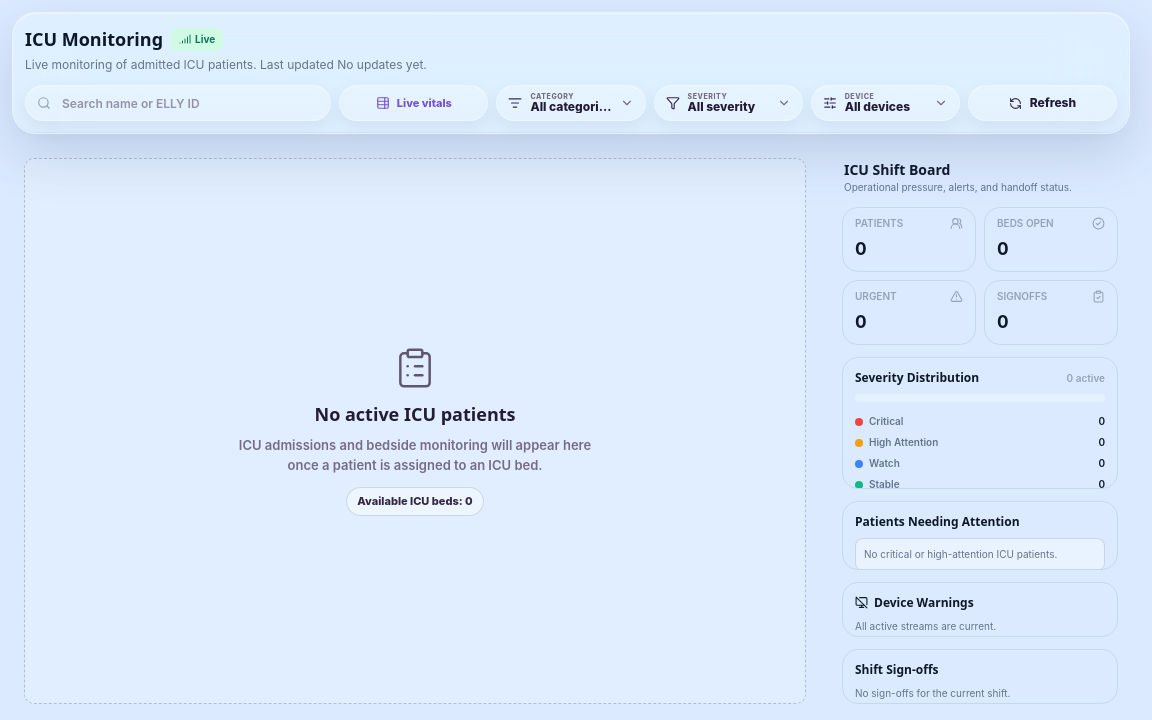
IcuMonitoring › accepts a browser pointer click without relying on pointerdown
The width and height of the screenshot is (1152, 720).
What coordinates should you click on to do the following:
click the button with aria-label "Category: All categories"
I would click on:
 (571, 103)
Its box is [496,85,646,121].
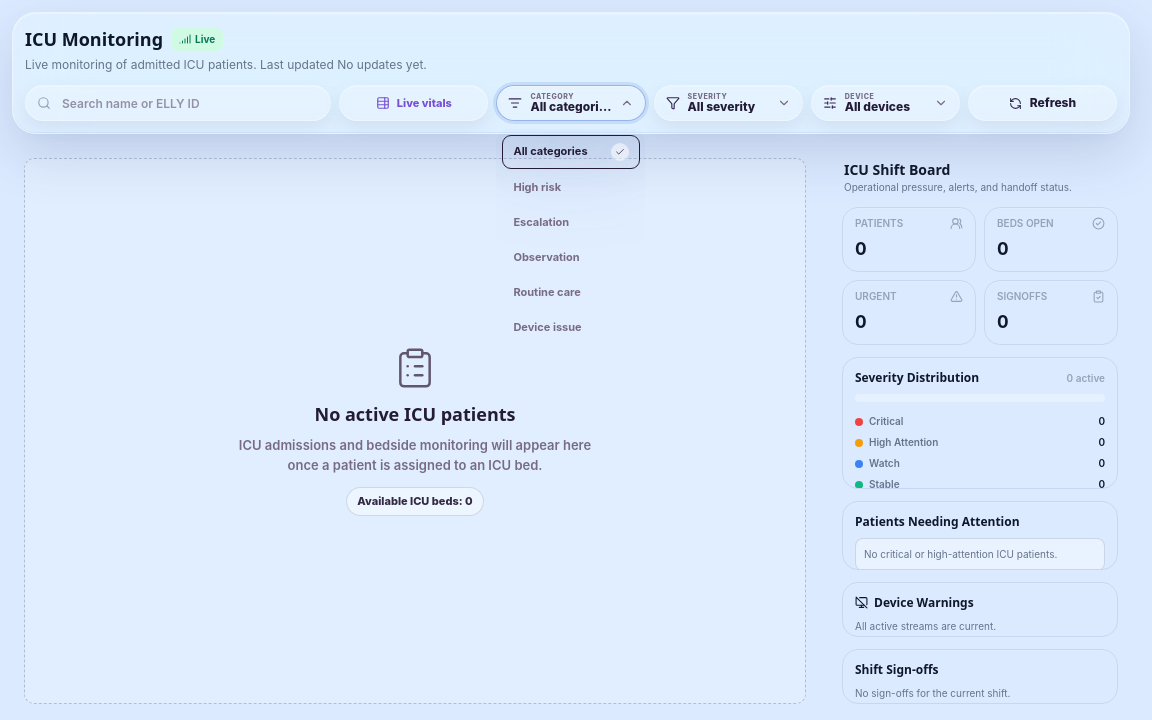
What coordinates should you click on to do the following:
click the option "High risk"
I would click on:
 (571, 188)
Its box is [502,172,640,204].
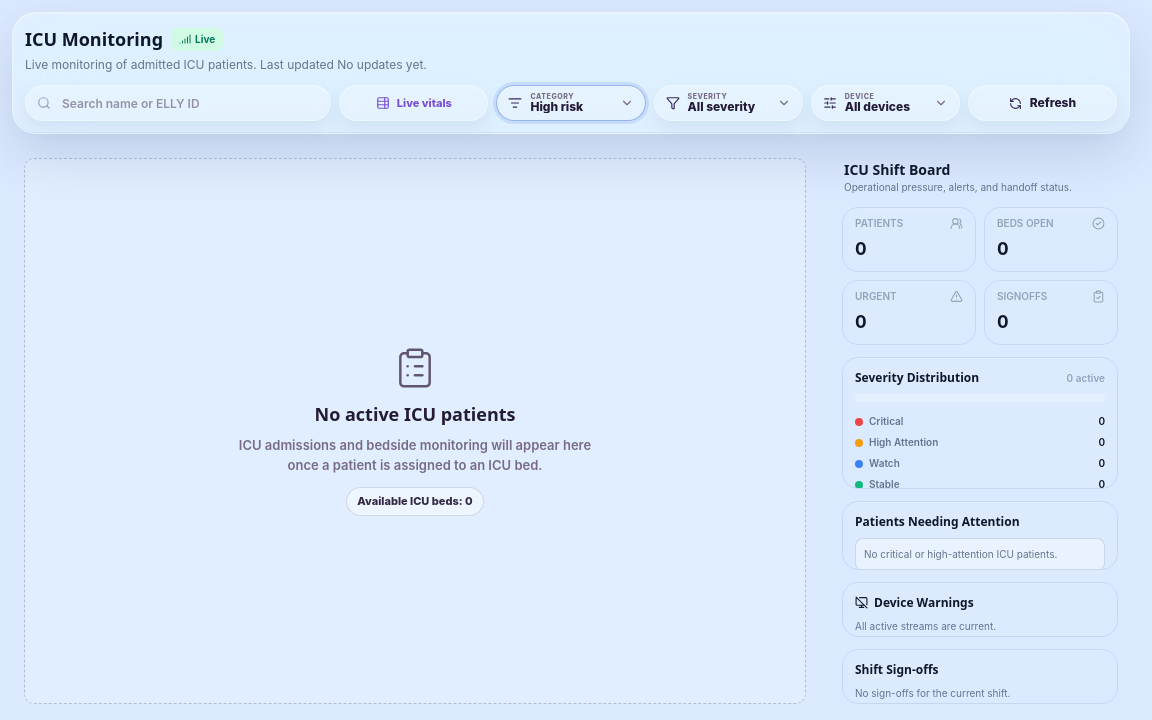
Expected: the button with aria-label "Category: High risk" is shown, [496,85,646,121]
